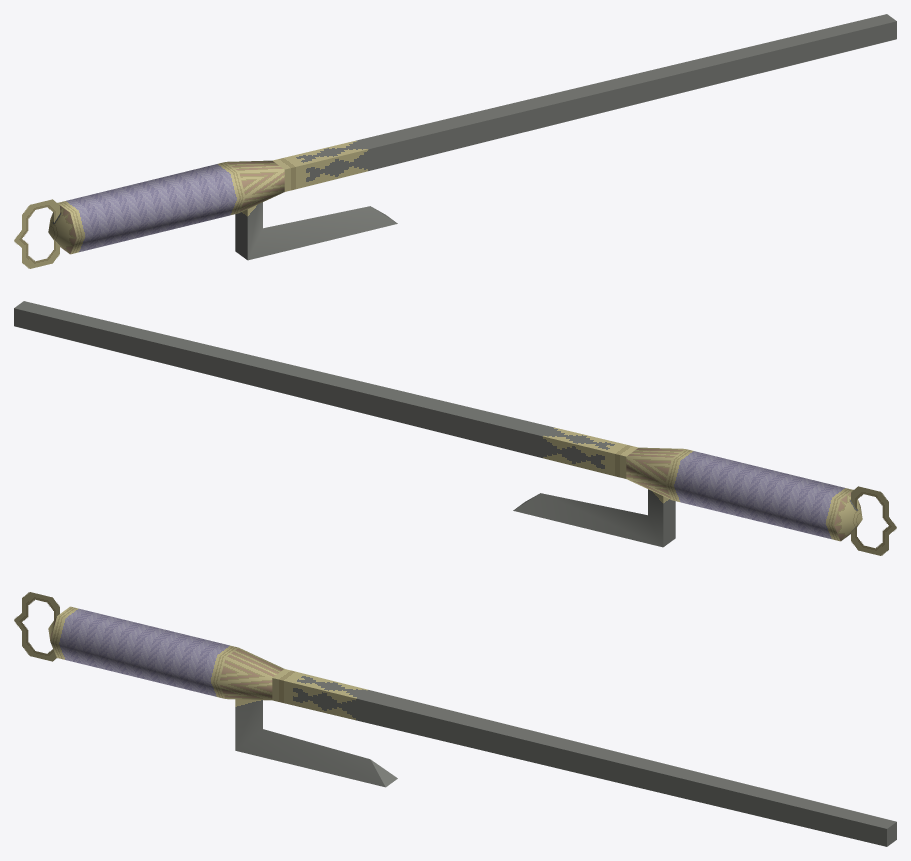
The model's file is 005b_Police_Club.glb.
3 renders of one model, top to bottom at view 1: azimuth 30°, elevation 25°; view 2: azimuth 150°, elevation 25°; view 3: azimuth 330°, elevation 25°, orthographic.
Parts seen in each view (by area): view 1: part_0; view 2: part_0; view 3: part_0.
Boxes of the visible parts, x1,y1,x2,y2 form: part_0: (14,14,896,268); part_0: (14,301,896,555); part_0: (14,592,896,846).
Bounding box in the file's own units: 0.5723 × 0.064 × 0.03.
1 material, 1 textured.
